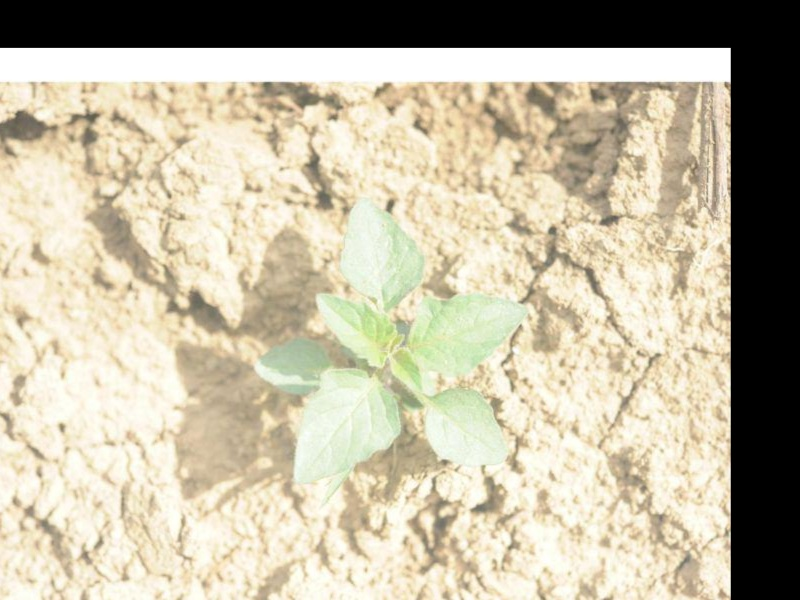nightshade: (254, 200, 527, 483)
